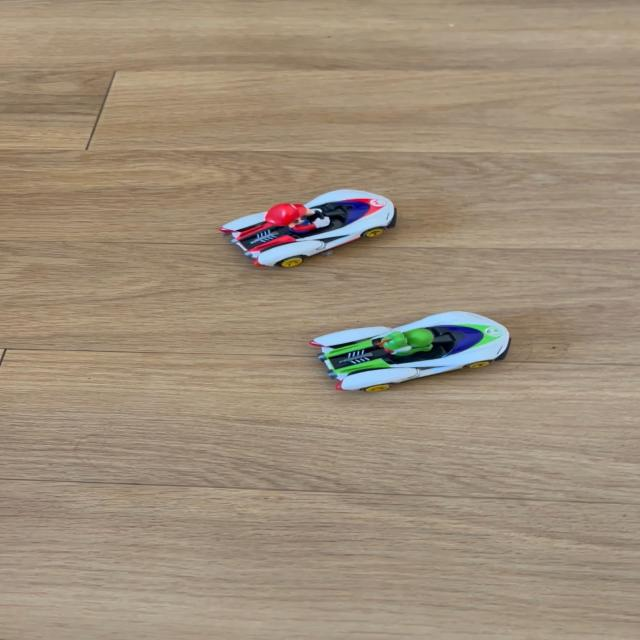mario: (205, 185, 411, 272)
yoshi: (304, 306, 528, 395)
